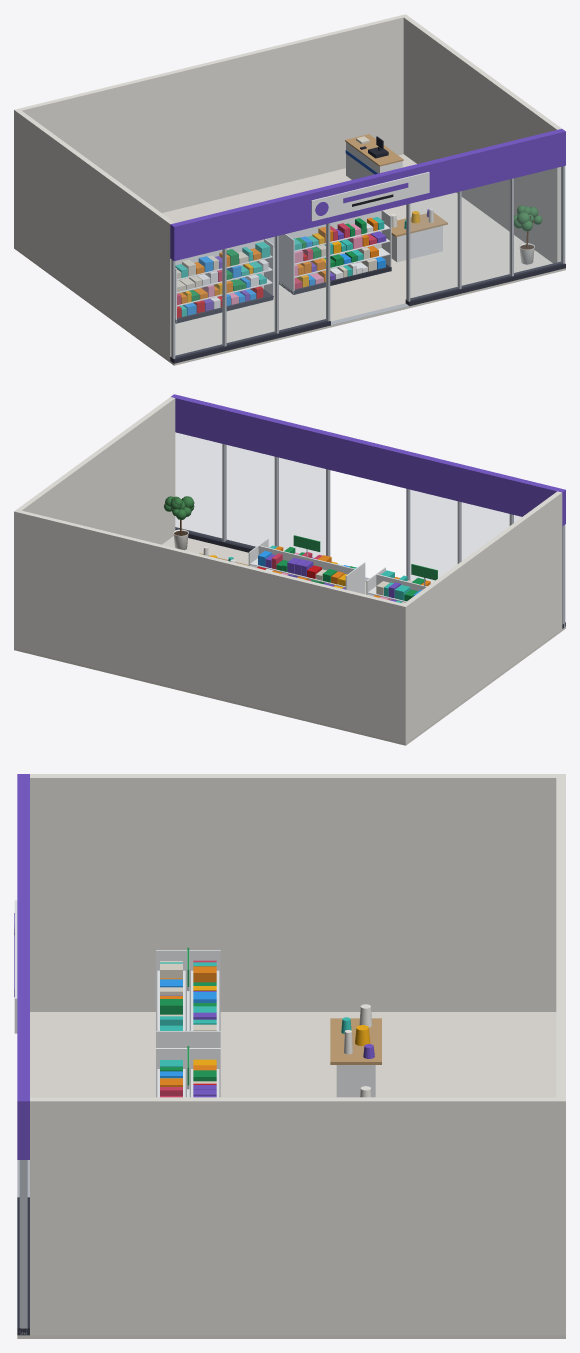
The model's file is mal-006.glb.
3 views of the same model, one above another, from view 1: azimuth 30°, elevation 25°; view 2: azimuth 150°, elevation 25°; view 3: azimuth 270°, elevation 25° (orthographic). The views are drawn at different scales.
Parts seen in each view (by area): view 1: mall_wall, glass_clear, mall_floor, brand_home, white, stainless, dark_steel, accent_teal, fruit_orange, oak, paper, plastic_blue (+5 smaller); view 2: mall_wall, glass_clear, brand_home, stainless, mall_floor, white, brand_grocery, dark_steel, leaf, safety_green, accent_teal; view 3: mall_wall, mall_floor, white, brand_home, stainless, oak, accent_teal, safety_green, paper, dark_steel, fruit_orange.
Boxes of the visible parts, box(x1,y1,x2,y2) form: mall_wall: box(14, 14, 561, 360); glass_clear: box(176, 167, 561, 356); mall_floor: box(14, 154, 565, 365); brand_home: box(170, 129, 565, 311); white: box(175, 142, 442, 322); stainless: box(171, 166, 565, 358); dark_steel: box(170, 261, 565, 363); accent_teal: box(175, 217, 406, 316); fruit_orange: box(179, 217, 378, 303); oak: box(345, 134, 447, 236); paper: box(177, 136, 376, 292); plastic_blue: box(183, 236, 385, 315); mall_wall: box(14, 397, 562, 743); glass_clear: box(176, 433, 520, 582); brand_home: box(171, 394, 565, 601); stainless: box(222, 444, 565, 627); mall_floor: box(14, 536, 565, 745); white: box(248, 538, 426, 602); brand_grocery: box(293, 535, 437, 580); dark_steel: box(175, 527, 565, 628); leaf: box(164, 496, 194, 519); safety_green: box(276, 547, 425, 601); accent_teal: box(228, 545, 410, 602); mall_wall: box(30, 774, 565, 1335); mall_floor: box(17, 1012, 565, 1338); white: box(14, 900, 375, 1097); brand_home: box(14, 774, 374, 1159); stainless: box(17, 987, 189, 1334); oak: box(330, 1018, 381, 1064); accent_teal: box(160, 962, 351, 1078); safety_green: box(160, 982, 216, 1081); paper: box(160, 961, 216, 1083); dark_steel: box(17, 1197, 29, 1335); fruit_orange: box(160, 966, 216, 1086).
Bounding box in the file's own units: 12 × 4.06 × 8.55.
